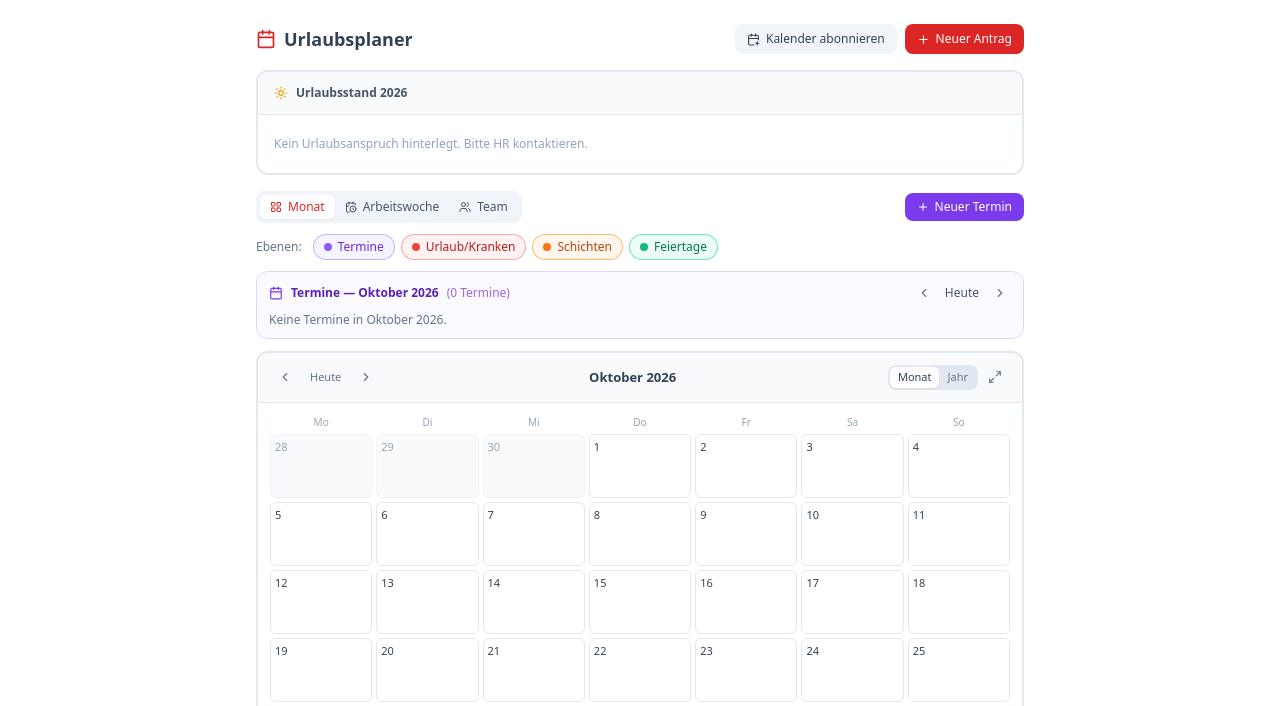
VacationPage › pre-fills the form with the SSO-matched employee when the page-level button is clicked
Click the button "Neuer Antrag" at [964, 39], box [905,24,1024,54]
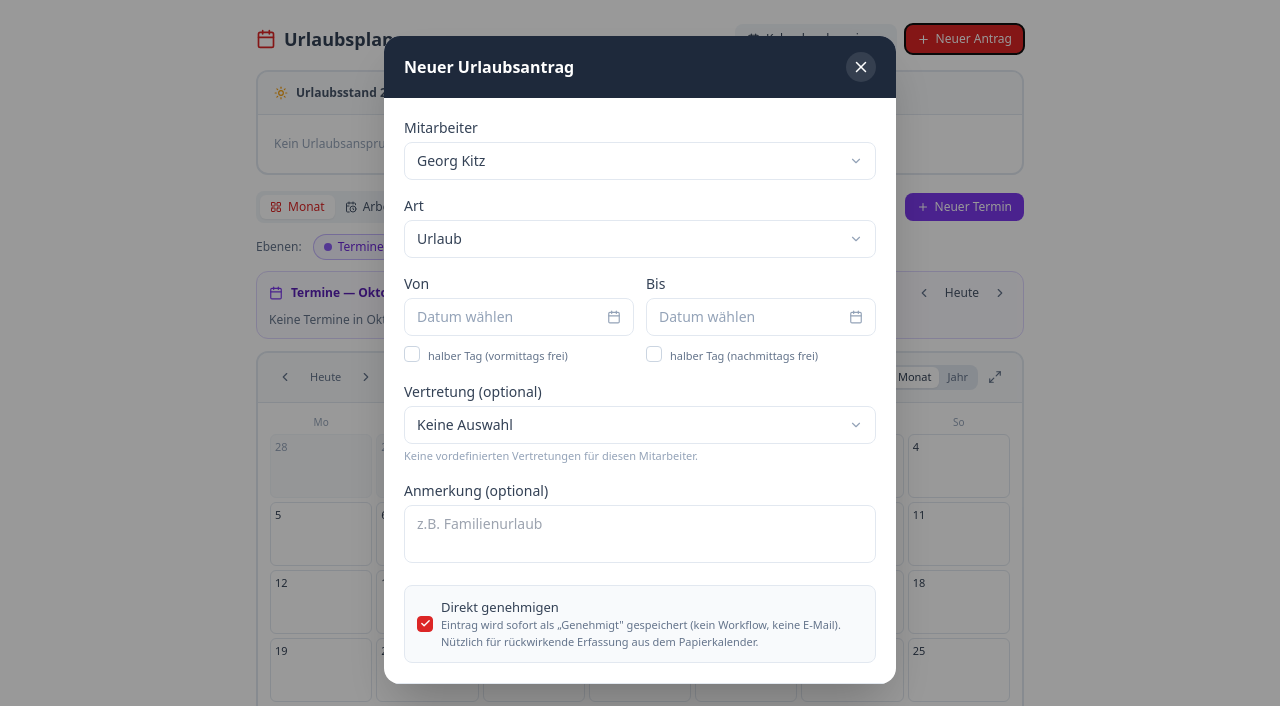
Now the text "Neuer Urlaubsantrag" is shown, box [404,55,574,79]
Now the button with aria-label "Mitarbeiter" reads "Georg Kitz", box [404,142,876,180]
